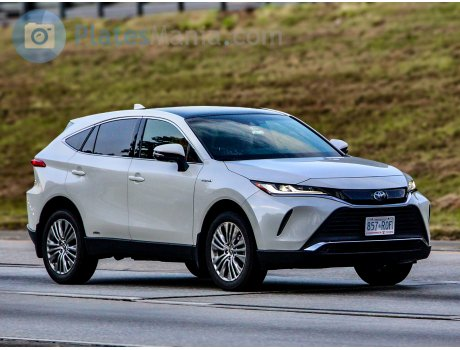licence: (361, 214, 396, 237)
